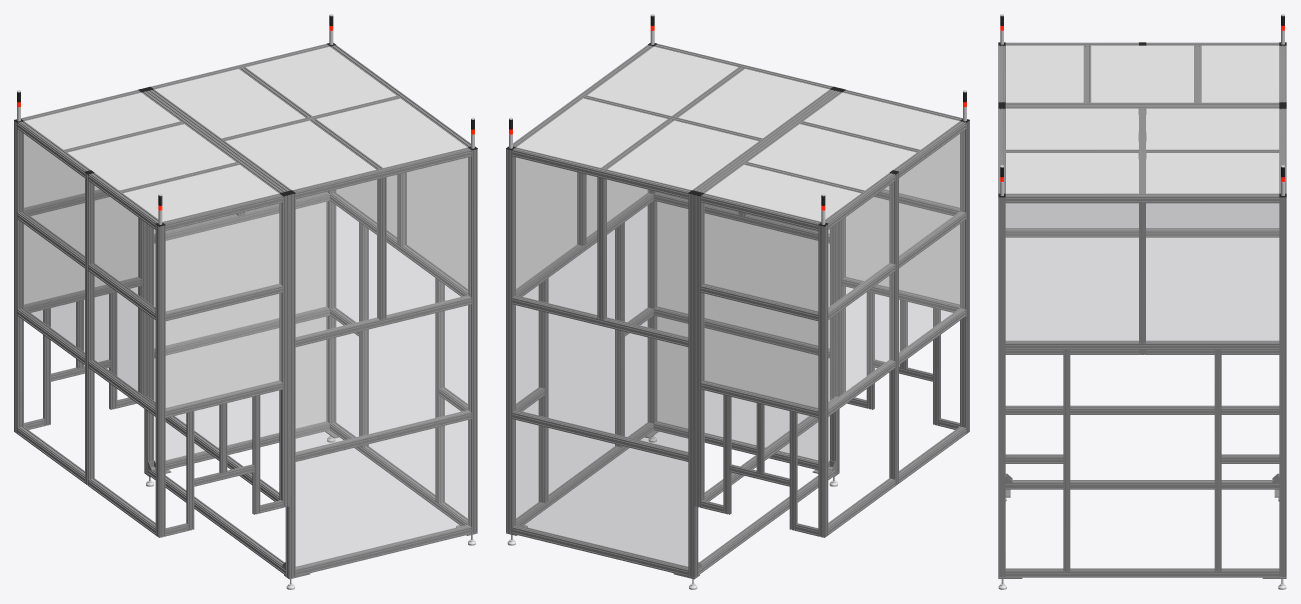
3 renders of one model, left to right at view 1: azimuth 30°, elevation 25°; view 2: azimuth 150°, elevation 25°; view 3: azimuth 270°, elevation 25°, orthographic.
Parts seen in each view (by area): view 1: 07_C_acryl, 07_C_frame_almi, 07_C_panel; view 2: 07_C_acryl, 07_C_frame_almi, 07_C_panel; view 3: 07_C_panel, 07_C_acryl, 07_C_frame_almi, 07_C_lamp.
Boxes of the visible parts, left/top/right/bottom form: 07_C_acryl: left=19, top=130, right=470, bottom=569; 07_C_frame_almi: left=14, top=44, right=477, bottom=579; 07_C_panel: left=24, top=46, right=467, bottom=221; 07_C_acryl: left=513, top=130, right=964, bottom=568; 07_C_frame_almi: left=506, top=43, right=969, bottom=579; 07_C_panel: left=516, top=46, right=959, bottom=221; 07_C_panel: left=1005, top=45, right=1279, bottom=193; 07_C_acryl: left=1005, top=203, right=1279, bottom=342; 07_C_frame_almi: left=998, top=42, right=1286, bottom=578; 07_C_lamp: left=1000, top=14, right=1284, bottom=195.
Bounding box in the file's own units: 3.04 × 3.88 × 2.4.
Materials: 6 (2 with a texture image).
